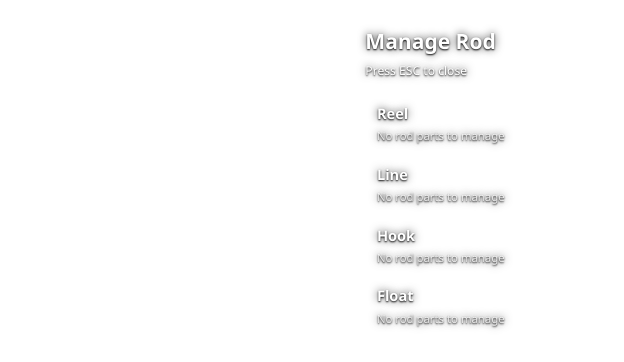
Test case: RigMenu › renders flyout sub-menu when hovering category card
Check: the text "Manage Rod" is shown, box [365, 28, 496, 59]
Hover over the element with class "rig-category-card" showing "Reel No rod parts to manage" at x=393, y=115, box [377, 104, 504, 146]
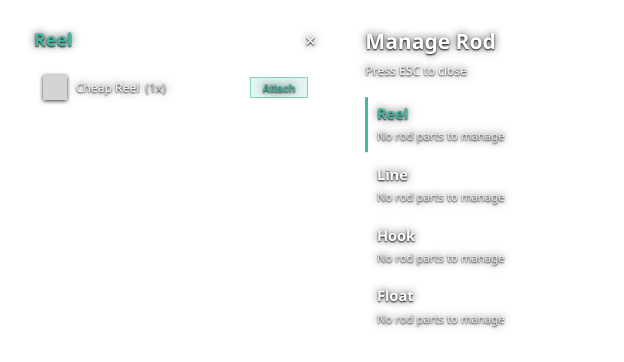
Check: the element with class "rig-flyout-panel" is shown, box [17, 16, 334, 118]
// เลื่อนเมาส์ออกจากเมนู → sub-menu หายไป
Move the pointer off the element with class "rig-menu__container"
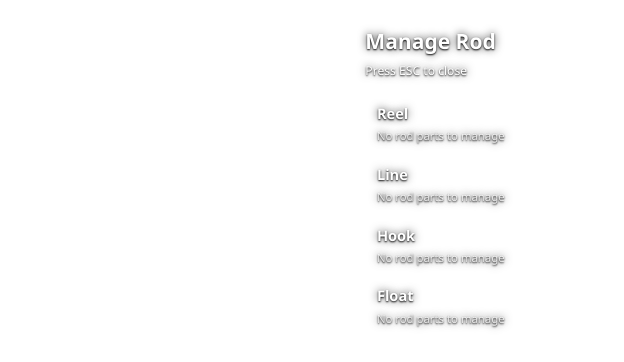
Check: the element with class "rig-flyout-panel" is gone
